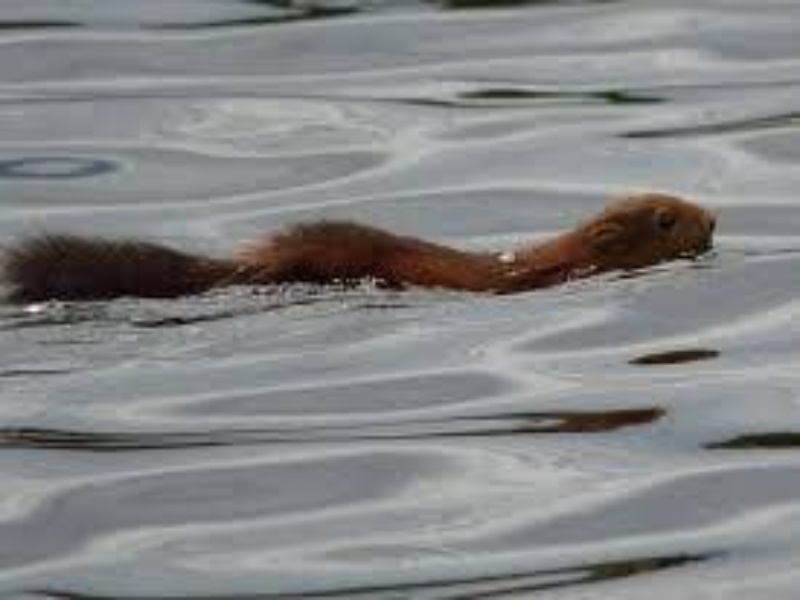minkish: (1, 190, 722, 303)
